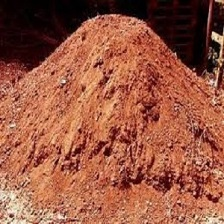sandy_soil: (9, 18, 209, 190)
